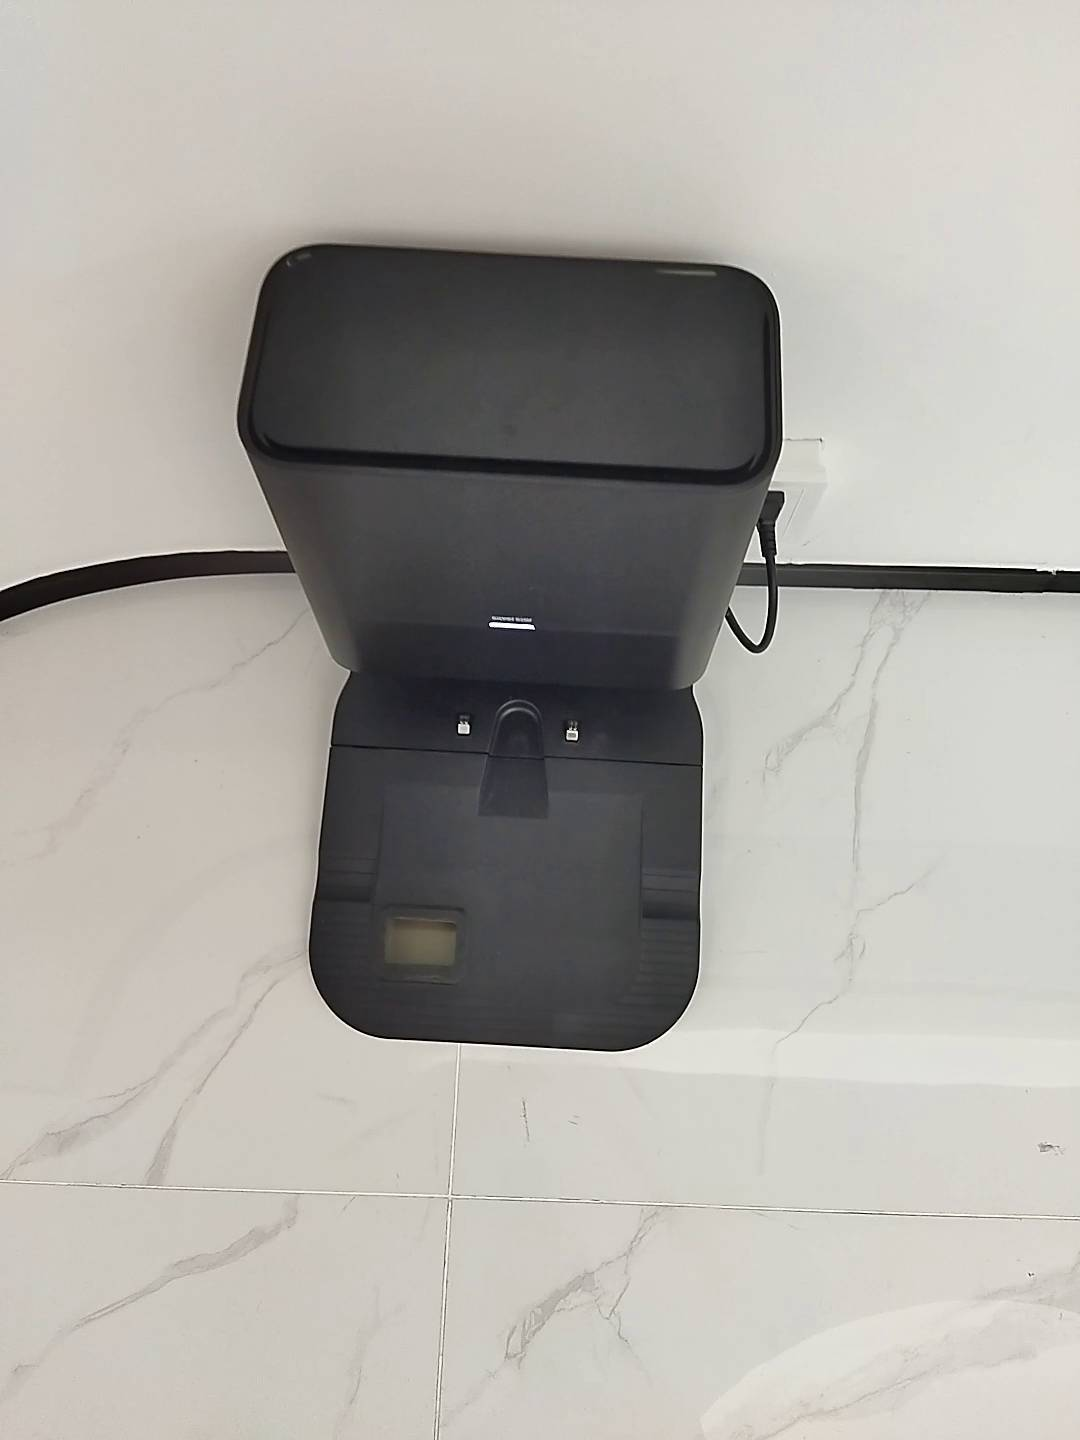dust collecting barrel: (234, 242, 785, 1056)
